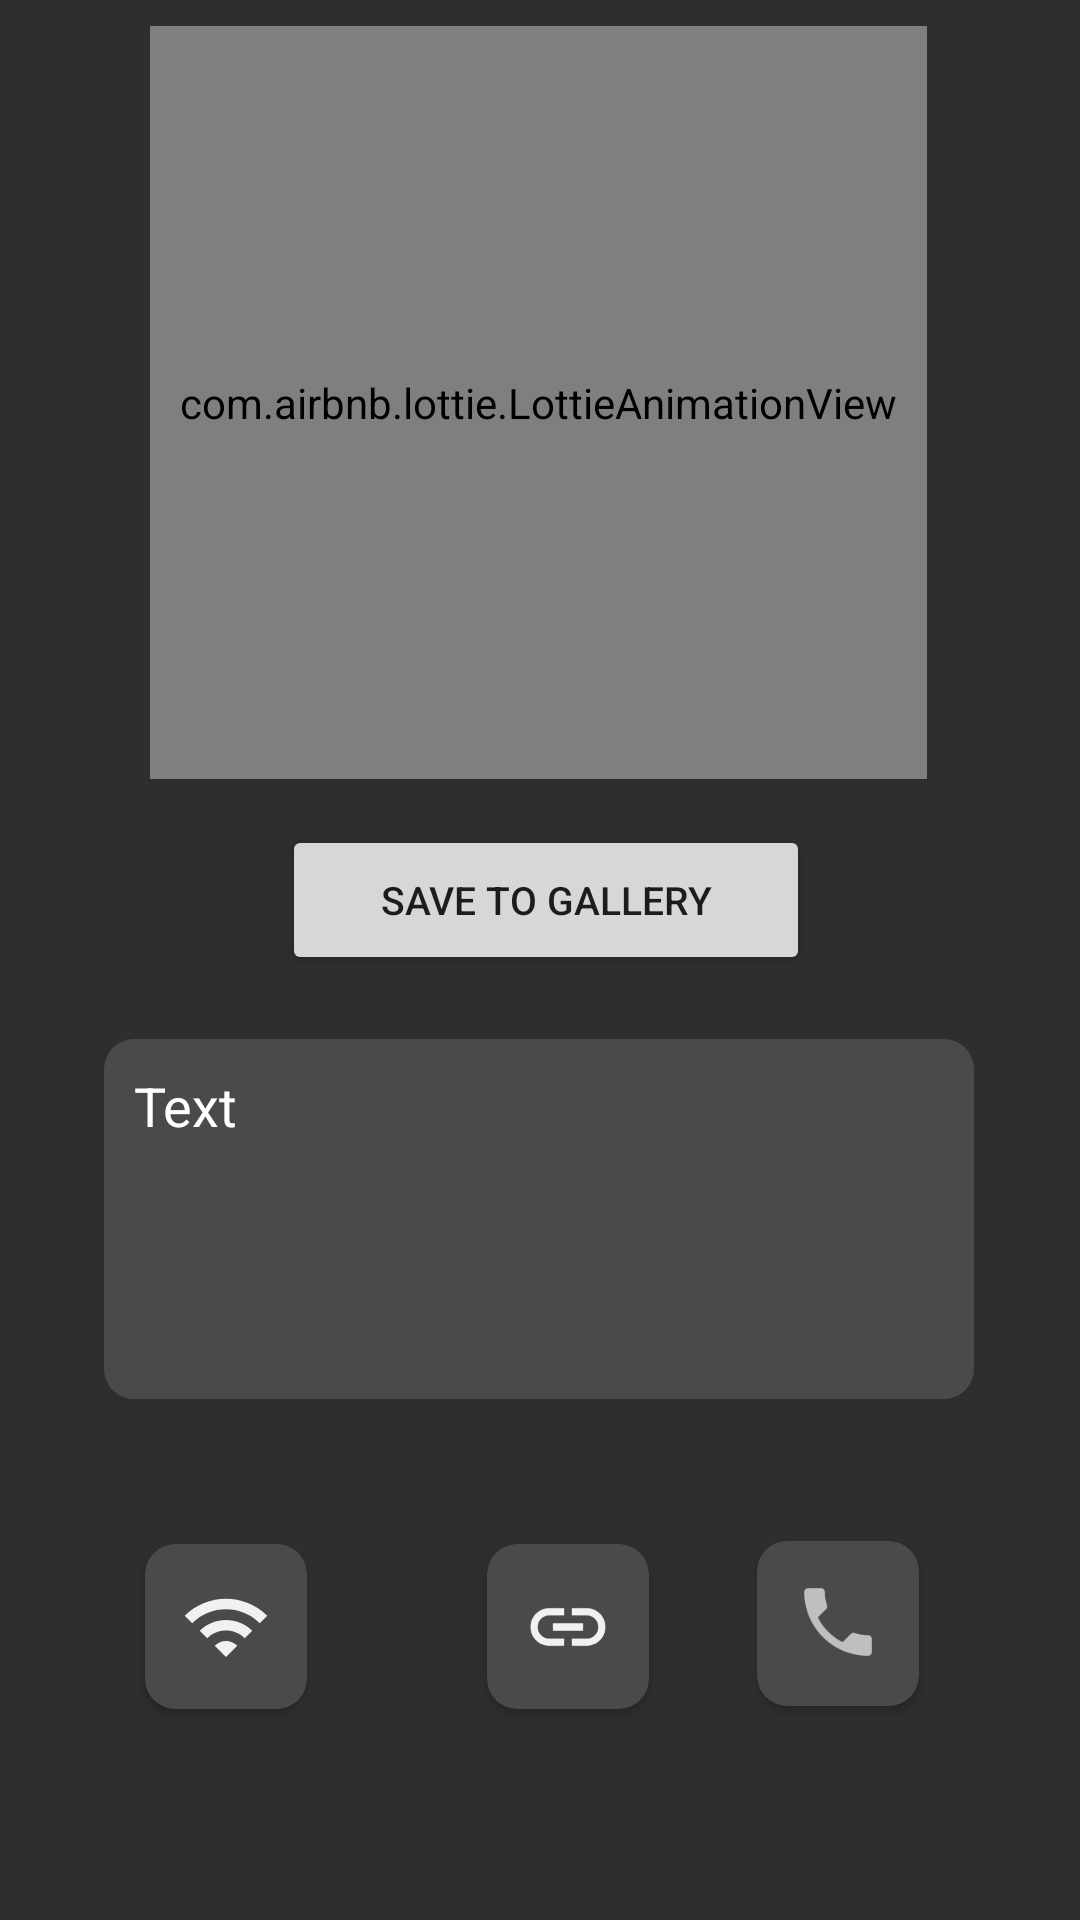

Icons on this 1080 x 1920 Android screen, each with its box as (x1, y1, x2, y2):
insert link: (530, 1608, 606, 1646)
phone: (804, 1588, 872, 1656)
wifi: (185, 1598, 267, 1657)
